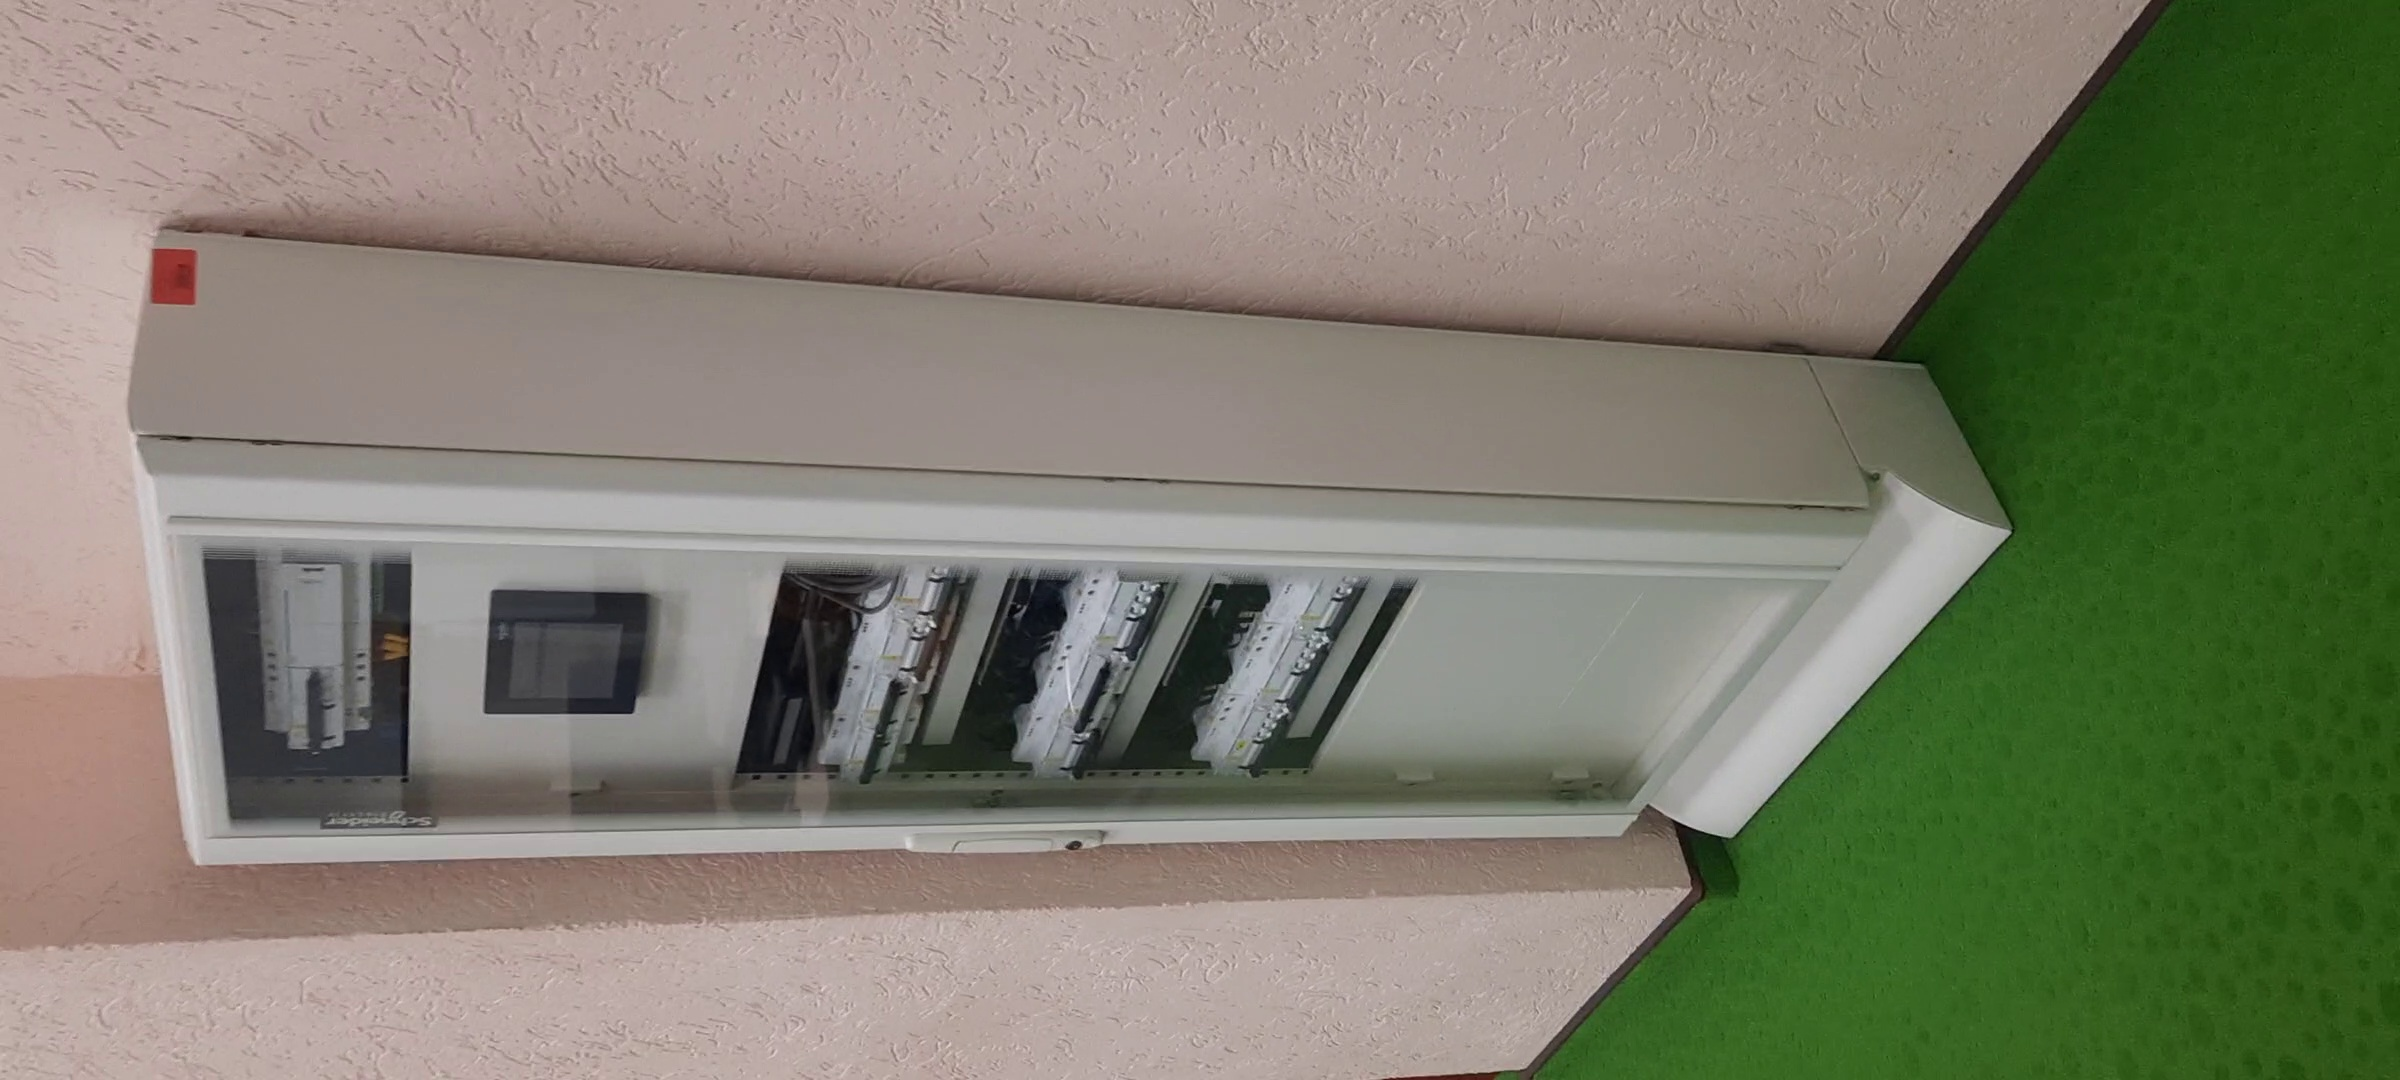smart_stand: (127, 255, 2014, 854)
